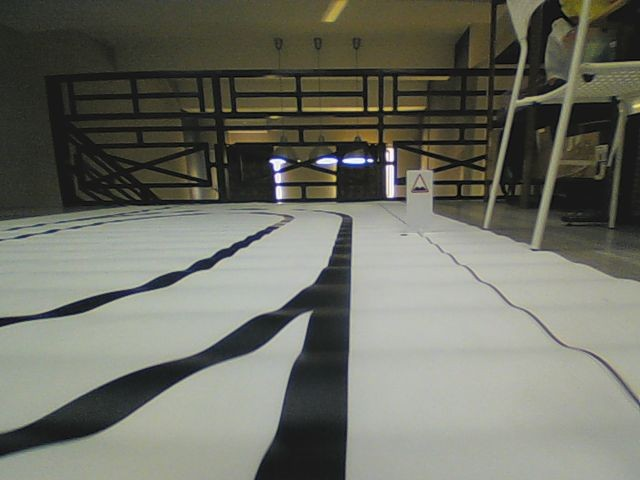Nerov: (409, 171, 430, 194)
